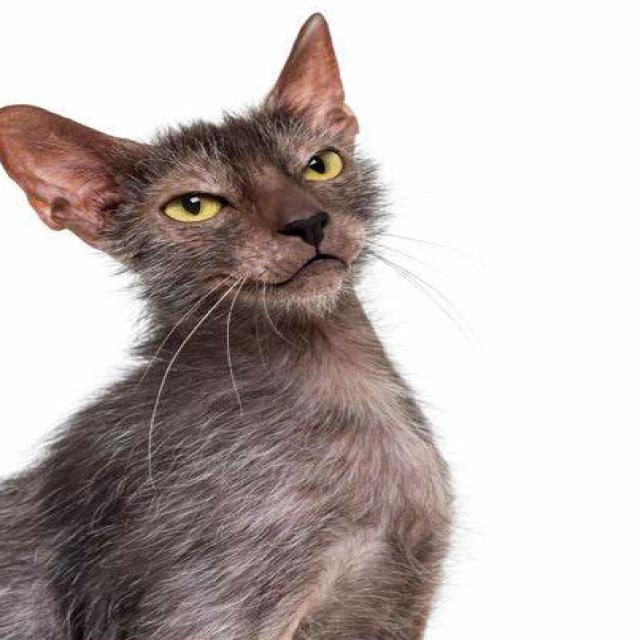Lykoi: (0, 7, 465, 640)
